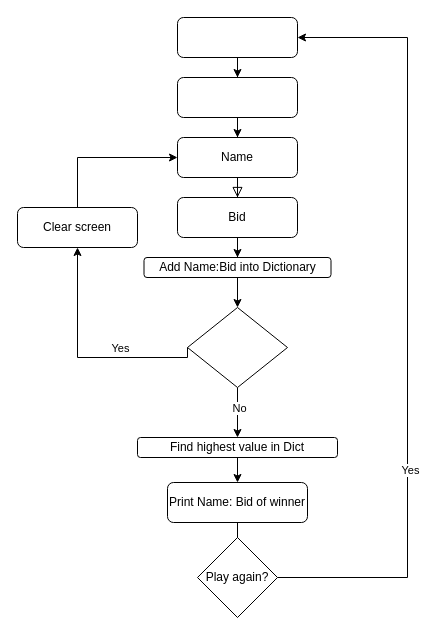
Some shapes in this 436 by 635 pixel diagram are drawn without their labels. The shapes that lost their labels are listed below. From the top down, each one's box as (x1, y1, x2, y2) in pixels, then its label:
(176, 16, 298, 58): Start
(176, 76, 298, 118): Display logo
(186, 306, 288, 388): Is there other players?
